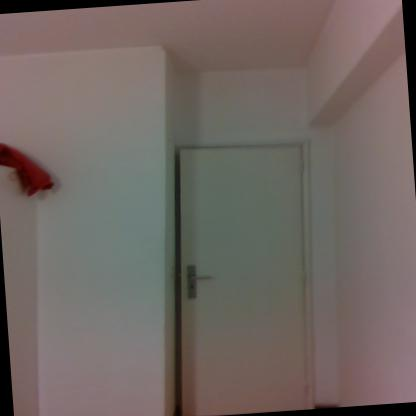closed: (138, 119, 346, 414)
